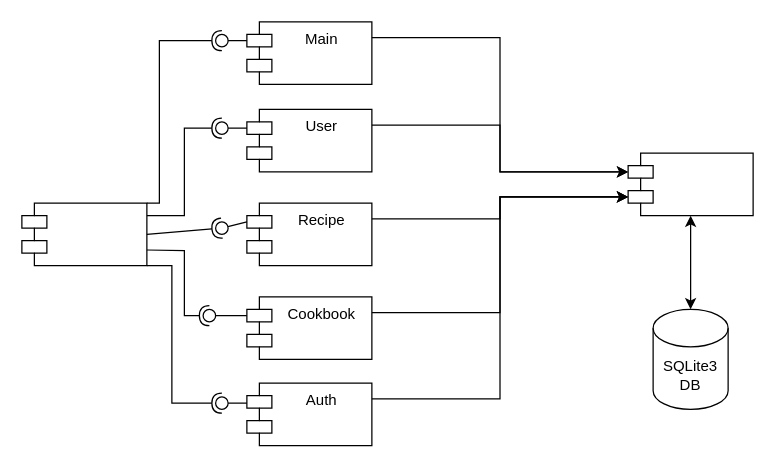
This 775x468 diagram has some shape labels left out. The shapes that lost their labels are listed below. From the top down, each one's centre as x and y in pixels, then its label:
At point (690, 184): "Model".
At point (84, 234): "Client".
